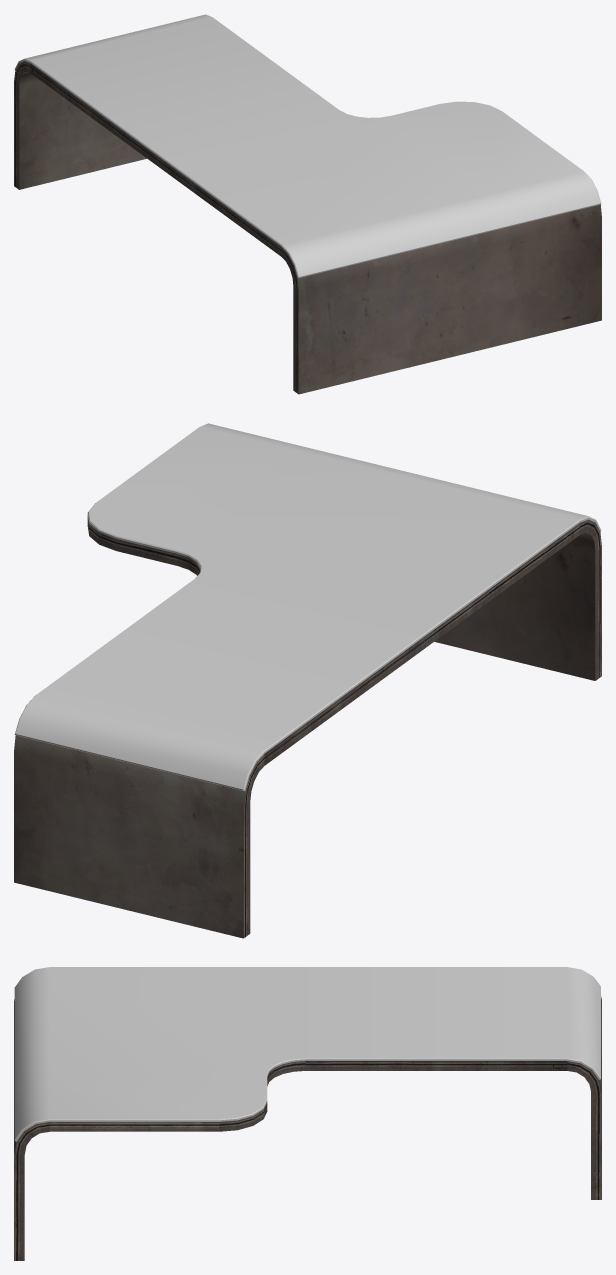
File: table_security_office.dae
The picture shows the model from 3 angles, top to bottom: view 1: azimuth 30°, elevation 25°; view 2: azimuth 150°, elevation 25°; view 3: azimuth 270°, elevation 25°; orthographic projection. The views are drawn at different scales.
Parts seen in each view (by area): view 1: glass, curved; view 2: glass, curved; view 3: glass, curved.
Part boxes in pixels (x1=…): glass: x1=14, y1=14, x2=601, y2=278; curved: x1=14, y1=61, x2=601, y2=394; glass: x1=14, y1=423, x2=601, y2=791; curved: x1=14, y1=515, x2=601, y2=938; glass: x1=14, y1=967, x2=600, y2=1141; curved: x1=14, y1=996, x2=601, y2=1260.
Bounding box in the file's own units: 2.54 × 1.1 × 4.13.
